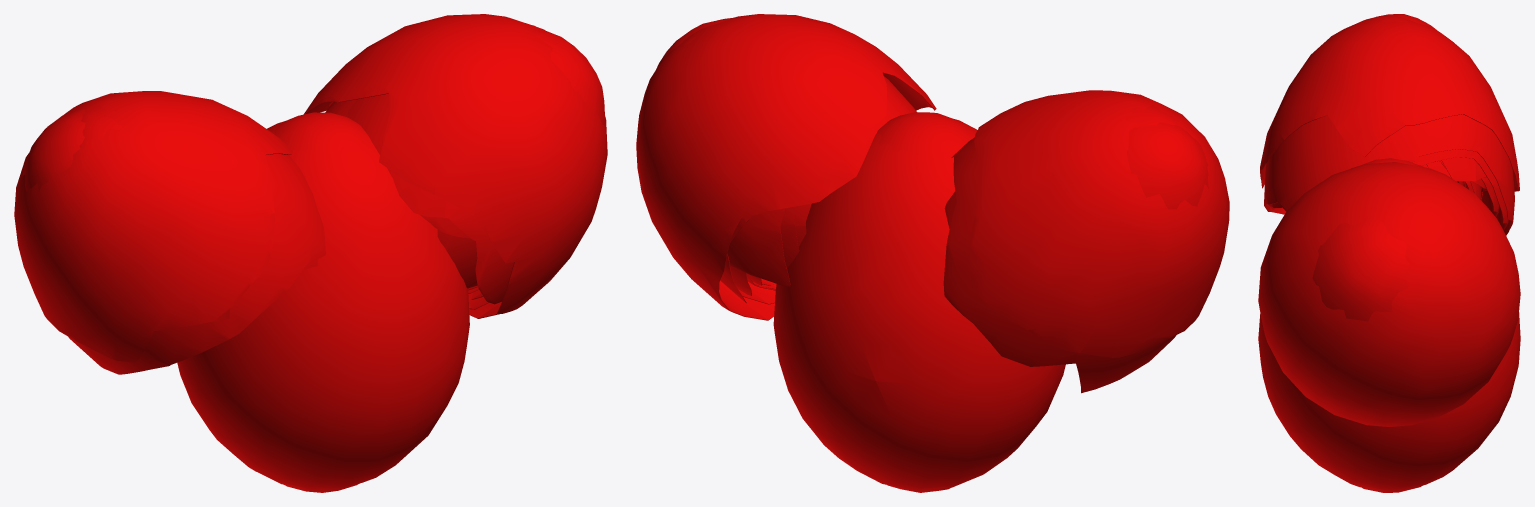
File: eggs_grp.fbx
3 views of the same model, side by side, from view 1: azimuth 30°, elevation 25°; view 2: azimuth 150°, elevation 25°; view 3: azimuth 270°, elevation 25° (orthographic). The views are drawn at different scales.
Parts seen in each view (by area): view 1: eggshell_2, egg_2, eggshell_30, eggshell_29, eggshell_18, egg_29, eggshell_28, eggshell_20; view 2: eggshell_2, egg_2, eggshell_30, eggshell_29, eggshell_18, egg_29, eggshell_3, eggshell_20; view 3: eggshell_2, egg_2, eggshell_30, eggshell_29, eggshell_20, eggshell_18, eggshell_10, egg_29.
Part boxes in pixels (x1,y1,x2,y2): eggshell_2: (14, 14, 607, 362); egg_2: (177, 121, 469, 490); eggshell_30: (68, 153, 325, 374); eggshell_29: (22, 31, 605, 299); eggshell_18: (347, 93, 513, 309); egg_29: (274, 112, 368, 492); eggshell_28: (431, 224, 477, 290); eggshell_20: (79, 25, 534, 270); eggshell_2: (636, 14, 1229, 357); egg_2: (773, 119, 1065, 490); eggshell_30: (943, 137, 1176, 393); eggshell_29: (656, 18, 1208, 303); eggshell_18: (727, 76, 956, 304); egg_29: (877, 112, 970, 492); eggshell_3: (746, 206, 799, 290); eggshell_20: (664, 36, 1186, 130); eggshell_2: (1258, 19, 1520, 426); egg_2: (1258, 164, 1520, 491); eggshell_30: (1264, 114, 1514, 235); eggshell_29: (1312, 14, 1436, 321); eggshell_20: (1269, 15, 1508, 272); eggshell_18: (1441, 157, 1486, 181); eggshell_10: (1435, 160, 1498, 216); egg_29: (1361, 158, 1422, 492).
Bounding box in the file's own units: 18.81 × 13.7 × 8.67.
